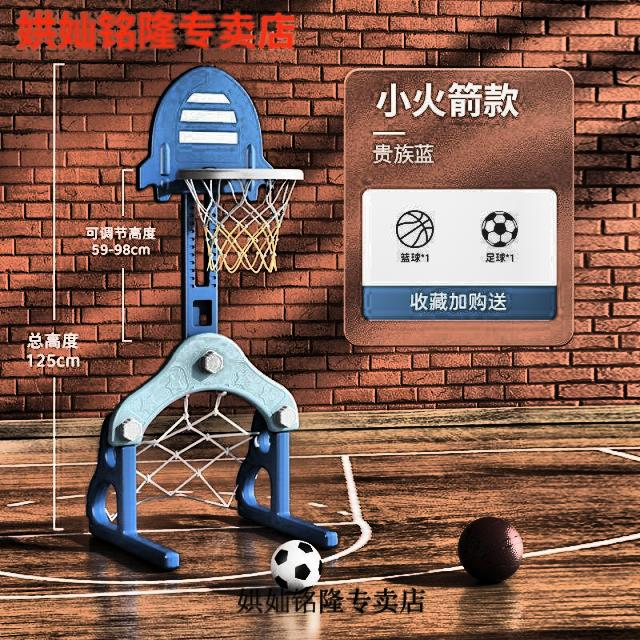board: (458, 517, 523, 584)
rim: (177, 168, 305, 272)
